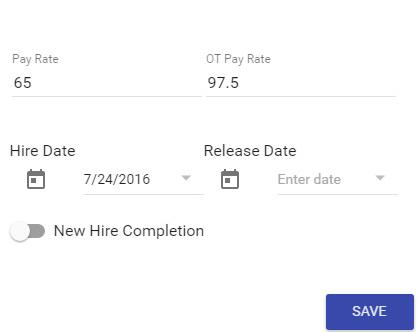field_line: (205, 71, 398, 99), (10, 71, 202, 99), (73, 165, 209, 199), (272, 165, 398, 199)
field_line_with_label: (6, 144, 212, 201), (205, 144, 401, 201), (203, 52, 400, 101), (8, 53, 203, 100)
